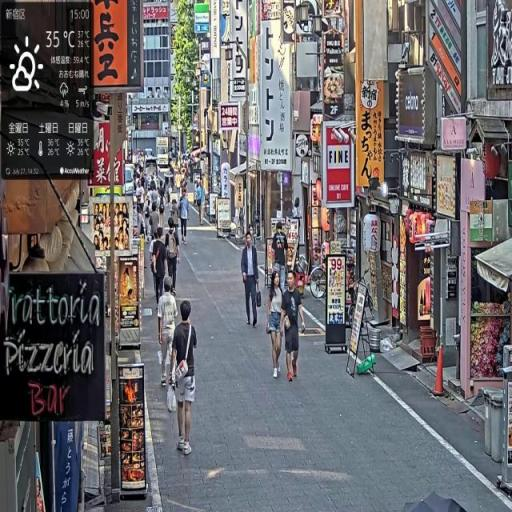person: (169, 301, 199, 455), (281, 268, 307, 387), (158, 274, 180, 390), (268, 270, 288, 381), (241, 230, 261, 329), (151, 228, 169, 310), (167, 219, 182, 298), (179, 189, 192, 243)
